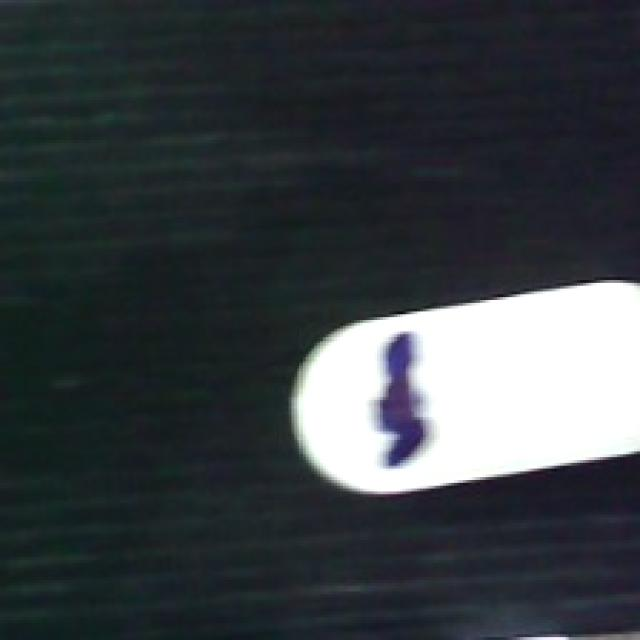defected: (283, 280, 640, 503)
